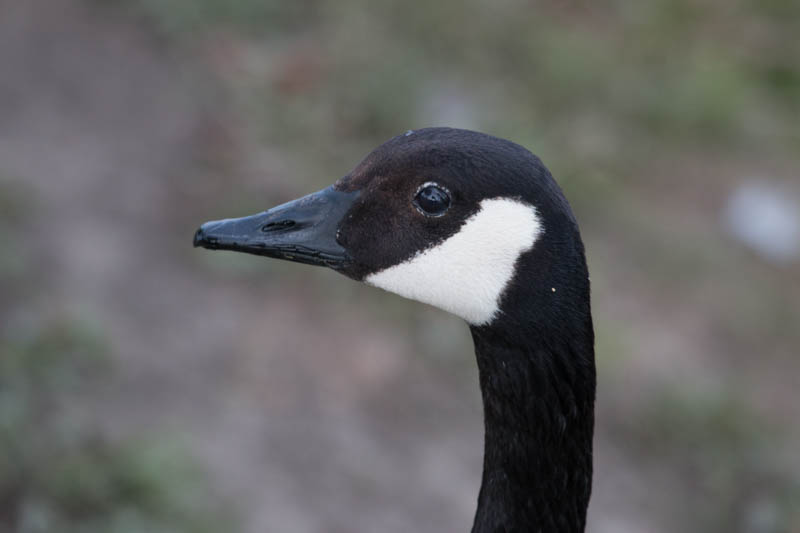goose-head: (192, 128, 592, 328)
